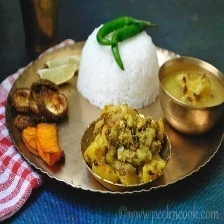sabzi: (84, 106, 170, 187)
